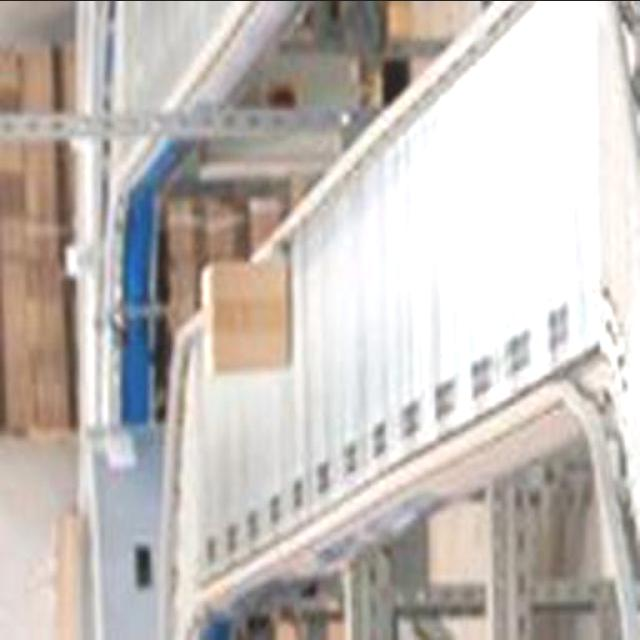conveyor: (164, 0, 618, 640)
